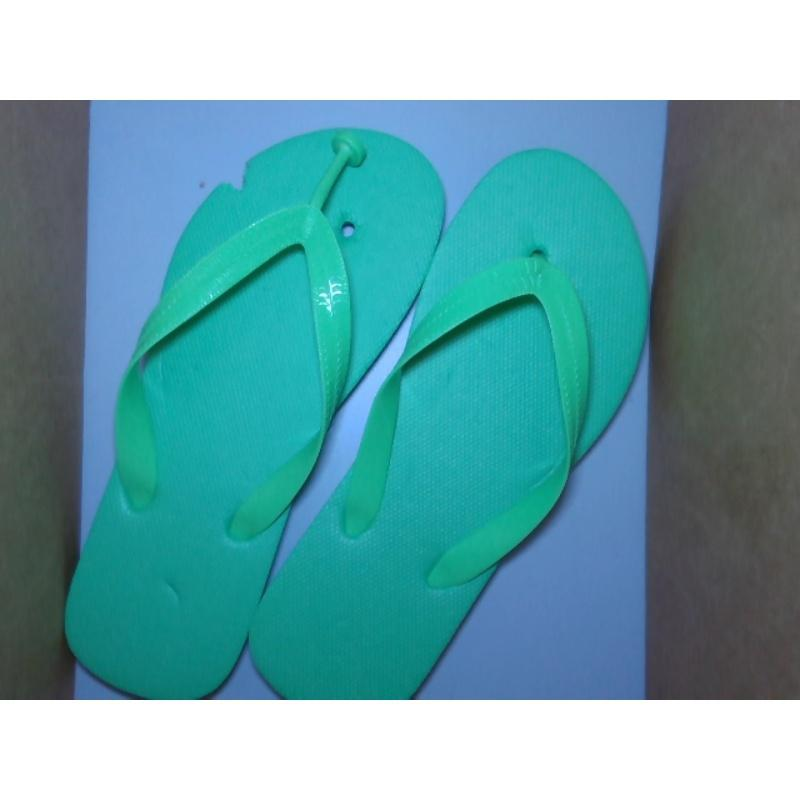chipped: (210, 146, 255, 214)
detached: (323, 127, 375, 194)
